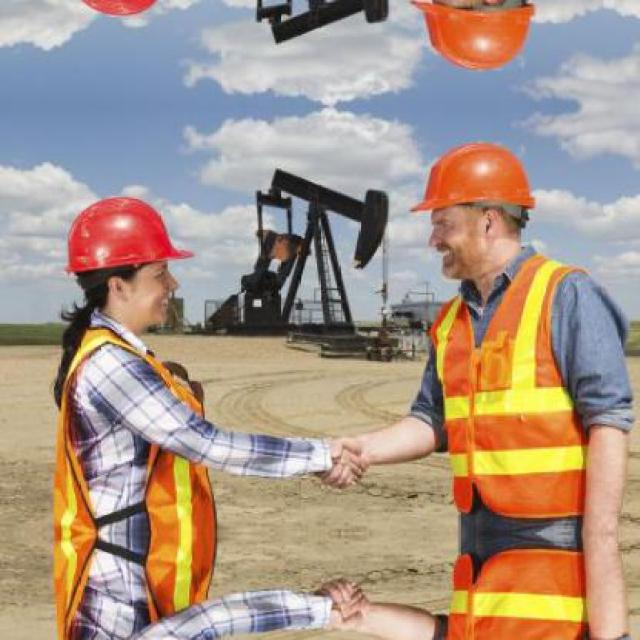helmet: (406, 127, 548, 288), (60, 184, 192, 330), (404, 0, 549, 86), (60, 0, 194, 29)
